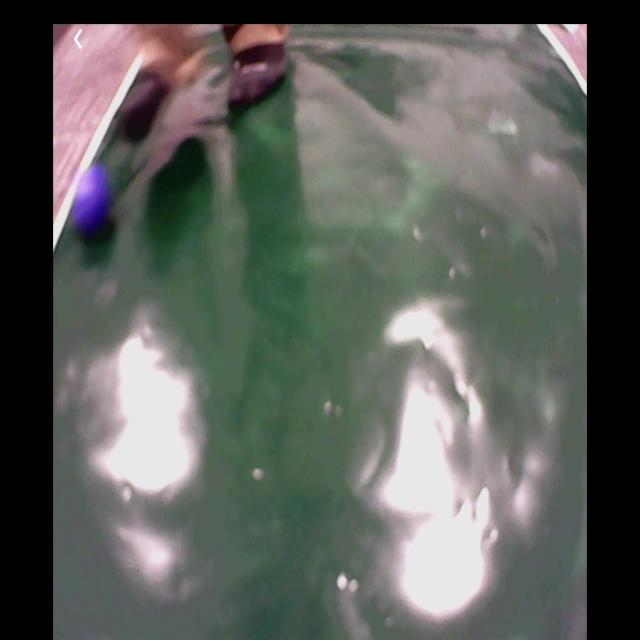ball: (66, 169, 109, 236)
